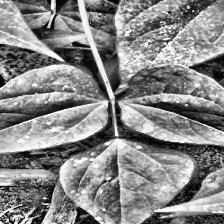Bean Rust: (58, 137, 194, 224), (116, 66, 224, 162), (0, 62, 106, 157), (190, 162, 224, 199)
